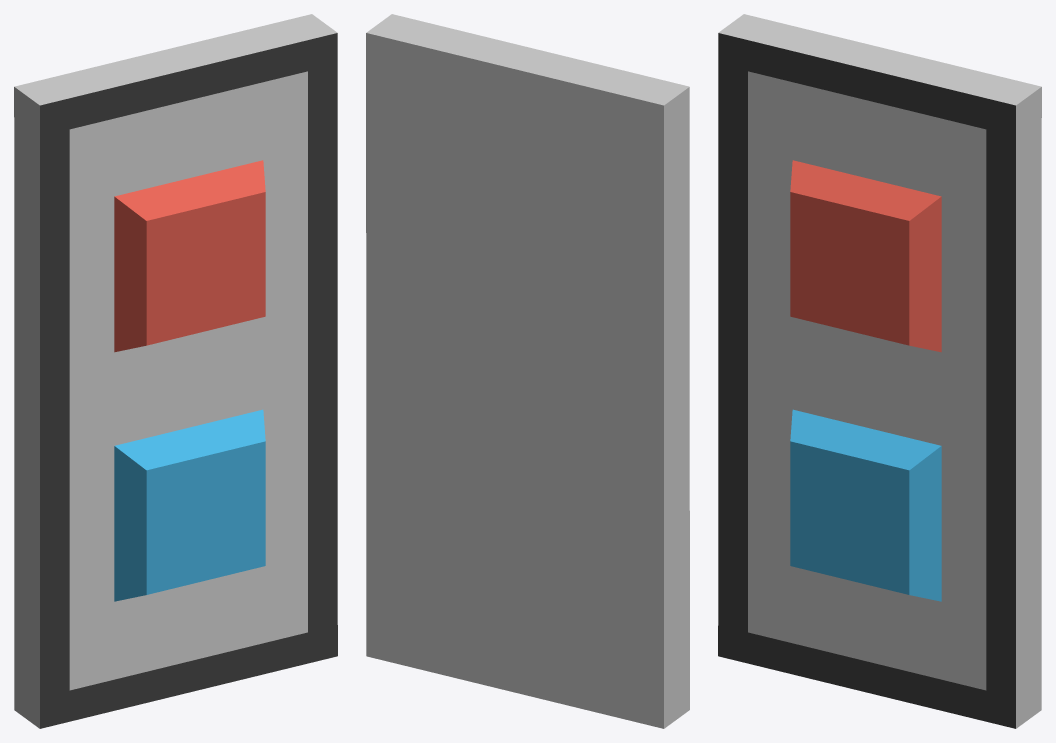
Rendered from scifi_panel_small.fbx.
3 renders of one model, left to right at view 1: azimuth 30°, elevation 25°; view 2: azimuth 150°, elevation 25°; view 3: azimuth 330°, elevation 25°, orthographic.
Visible parts, largest first — view 1: Button3.003; view 2: Button3.003; view 3: Button3.003.
Boxes of the visible parts, x1,y1,x2,y2 form: Button3.003: [14, 14, 337, 728]; Button3.003: [366, 14, 689, 728]; Button3.003: [718, 14, 1041, 728].
Size of the model in its own units: 0.2 by 0.4 by 0.05.
